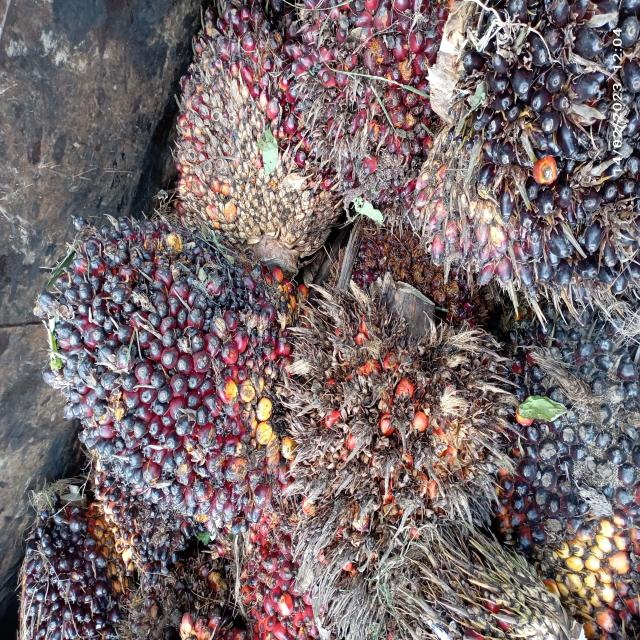fraksi 00: (406, 0, 640, 298), (158, 8, 336, 264), (516, 316, 640, 624), (2, 469, 152, 640)
fraksi 1: (48, 174, 320, 559), (282, 0, 446, 218)
fraksi 4: (297, 269, 516, 640)
